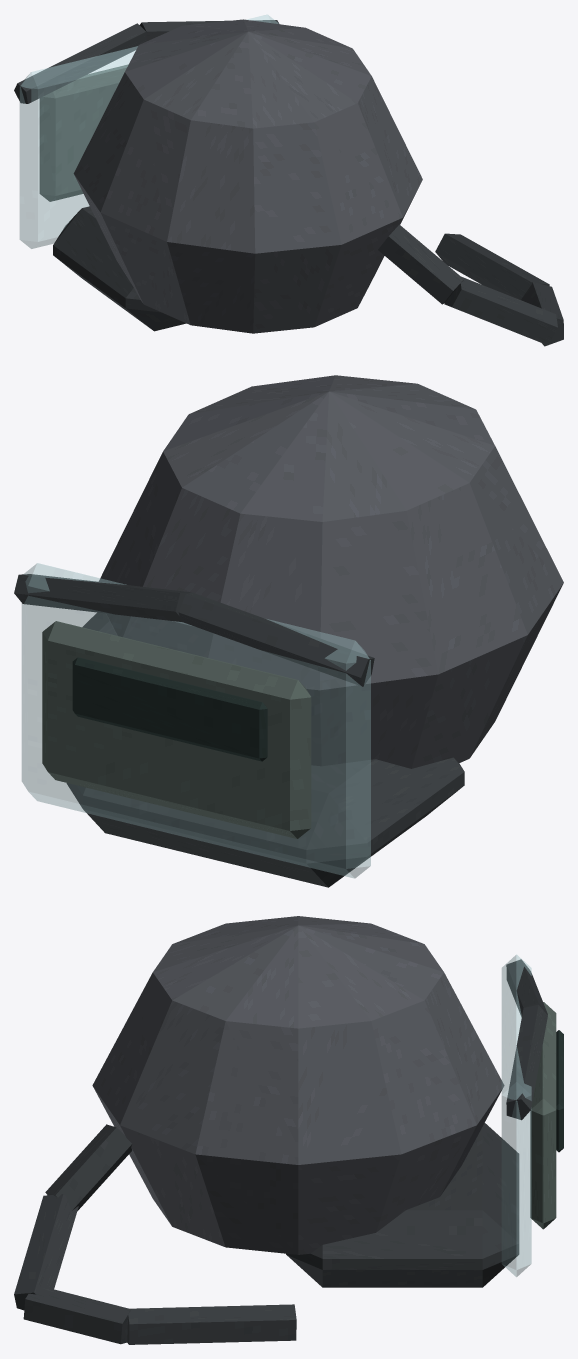
The model's file is welding_papr_helmet.glb.
3 renders of one model, top to bottom at view 1: azimuth 30°, elevation 25°; view 2: azimuth 150°, elevation 25°; view 3: azimuth 270°, elevation 25°, orthographic. The views are drawn at different scales.
Visible parts, largest first — view 1: block_molded helmet shell, block_transparent full-face shield, block_secondary flip-down mask, block_chin guard, block_rear air hose 1, block_shield mounting band 0, block_rear air hose 3, block_rear air hose 0, block_rear air hose 2, block_shield mounting band 1; view 2: block_molded helmet shell, block_transparent full-face shield, block_secondary flip-down mask, block_chin guard, block_dark welding window, block_shield mounting band 0, block_shield mounting band 1; view 3: block_molded helmet shell, block_chin guard, block_transparent full-face shield, block_rear air hose 3, block_secondary flip-down mask, block_rear air hose 2, block_rear air hose 1, block_rear air hose 0, block_shield mounting band 1, block_shield mounting band 0, block_dark welding window.
Boxes of the visible parts, <box> form: block_molded helmet shell: <box>73,19,422,333</box>; block_transparent full-face shield: <box>19,14,278,248</box>; block_secondary flip-down mask: <box>39,64,128,201</box>; block_chin guard: <box>53,206,186,331</box>; block_rear air hose 1: <box>444,276,557,344</box>; block_shield mounting band 0: <box>14,23,146,103</box>; block_rear air hose 3: <box>435,233,549,299</box>; block_rear air hose 0: <box>378,224,463,304</box>; block_rear air hose 2: <box>521,282,563,346</box>; block_shield mounting band 1: <box>140,20,279,41</box>; block_molded helmet shell: <box>99,375,563,768</box>; block_transparent full-face shield: <box>21,563,370,878</box>; block_secondary flip-down mask: <box>42,621,311,838</box>; block_chin guard: <box>66,757,464,887</box>; block_dark welding window: <box>72,657,267,761</box>; block_shield mounting band 0: <box>178,592,374,686</box>; block_shield mounting band 1: <box>14,574,191,621</box>; block_molded helmet shell: <box>92,916,504,1254</box>; block_chin guard: <box>286,1123,519,1287</box>; block_transparent full-face shield: <box>501,954,531,1276</box>; block_rear air hose 3: <box>127,1304,296,1344</box>; block_secondary flip-down mask: <box>530,1002,556,1229</box>; block_rear air hose 2: <box>23,1286,131,1344</box>; block_rear air hose 1: <box>14,1194,78,1310</box>; block_rear air hose 0: <box>45,1124,131,1210</box>; block_shield mounting band 1: <box>506,1004,547,1120</box>; block_shield mounting band 0: <box>506,959,547,1016</box>; block_dark welding window: <box>556,1030,563,1152</box>.
Size of the model in its own units: 0.2795 by 0.2079 by 0.3237.
2 materials, 2 textured.
